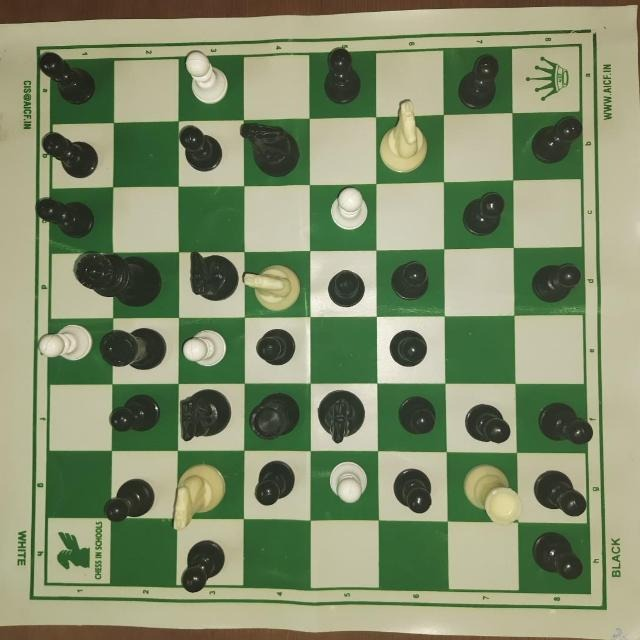black-knight: (241, 117, 302, 178), (177, 385, 235, 449), (185, 243, 240, 304), (316, 387, 371, 447)
black-pawn: (35, 47, 99, 108), (177, 534, 231, 598), (532, 465, 592, 520), (39, 129, 99, 181), (530, 112, 586, 167), (530, 528, 586, 583), (457, 52, 505, 116), (535, 400, 599, 448), (99, 476, 160, 525), (388, 462, 439, 520), (33, 195, 95, 242), (108, 390, 164, 440), (322, 46, 363, 108), (250, 457, 297, 511), (458, 190, 506, 242), (530, 258, 582, 305), (461, 399, 513, 446), (178, 120, 223, 174), (252, 324, 299, 371), (394, 391, 440, 438), (388, 323, 430, 371), (327, 264, 367, 314), (389, 258, 432, 304)
black-queen: (69, 252, 164, 310)
black-rook: (102, 325, 165, 374), (246, 389, 303, 441)
white-knight: (166, 457, 233, 534), (377, 96, 435, 174), (243, 257, 306, 310)
white-pawn: (185, 51, 233, 111), (36, 319, 97, 366), (324, 458, 372, 510), (324, 183, 371, 233), (182, 322, 229, 372)
white-rook: (460, 461, 524, 528)
